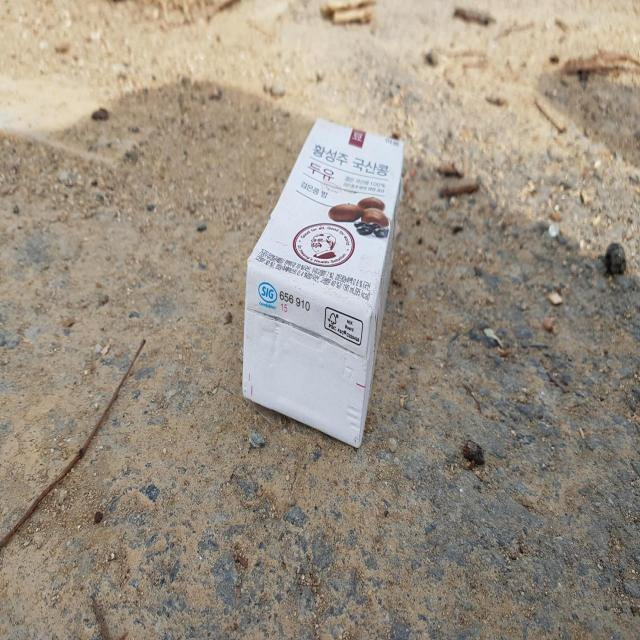paperpack: (242, 117, 404, 448)
